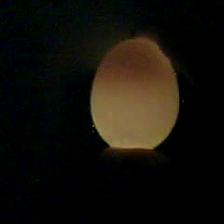infertile: (89, 36, 180, 152)
